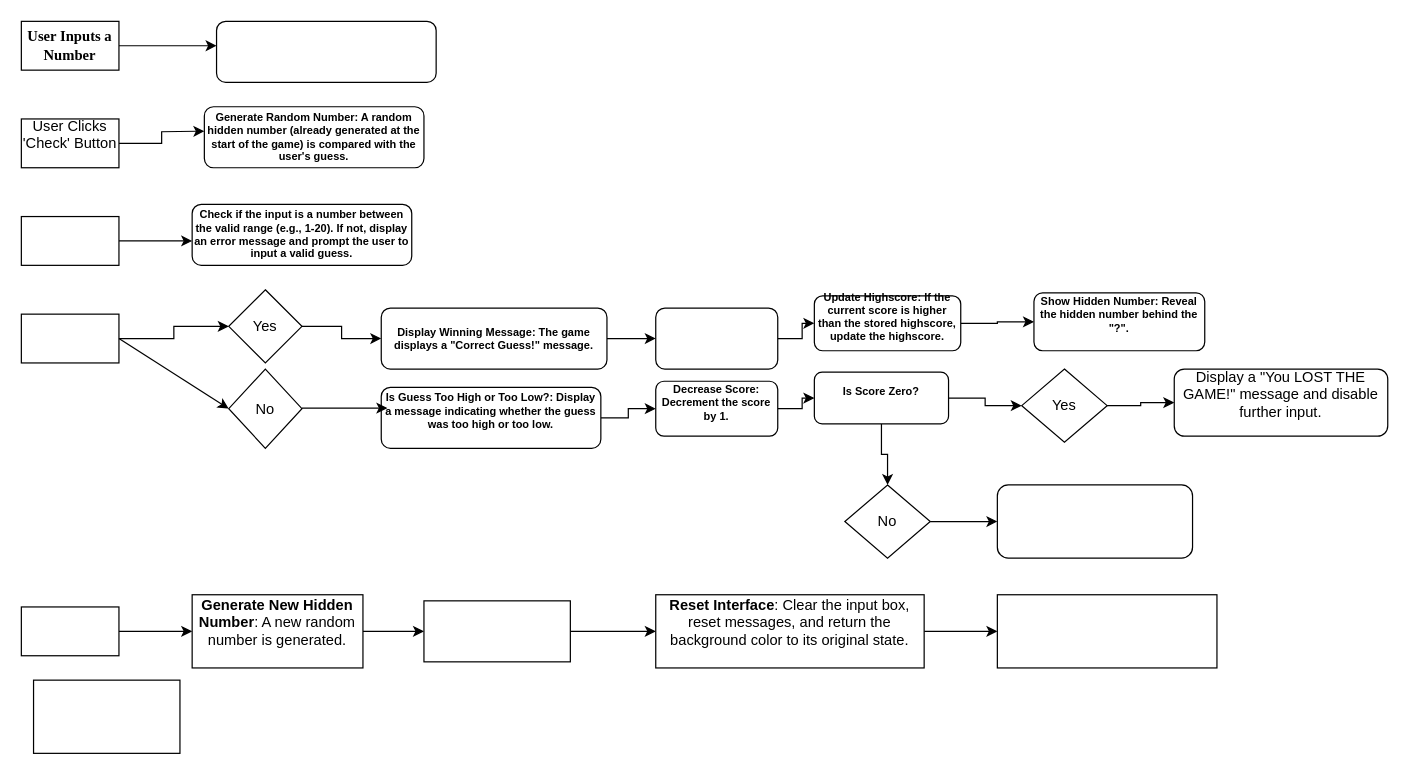
The diagram is 1409 pixels wide and 775 high, and some of its shapes have lost their labels. Each missing label, with the box of its shape:
Change Background Color : The background changes to indicate success.: (655, 307, 778, 369)
Check if Input is Valid: (20, 215, 119, 265)
Input Box : Player enters a guessed number. Between 1 - 20: (215, 20, 436, 82)
Is the Guess Correct?: (20, 313, 119, 363)
No : Display the updated score and allow the user to guess again.: (996, 484, 1193, 558)
Reset Score : Set the score back to its starting value.: (423, 600, 570, 662)
Retain Highscore : The highscore remains unchanged.: (996, 594, 1217, 668)
User Clicks 'Again' Button:: (20, 606, 119, 656)
